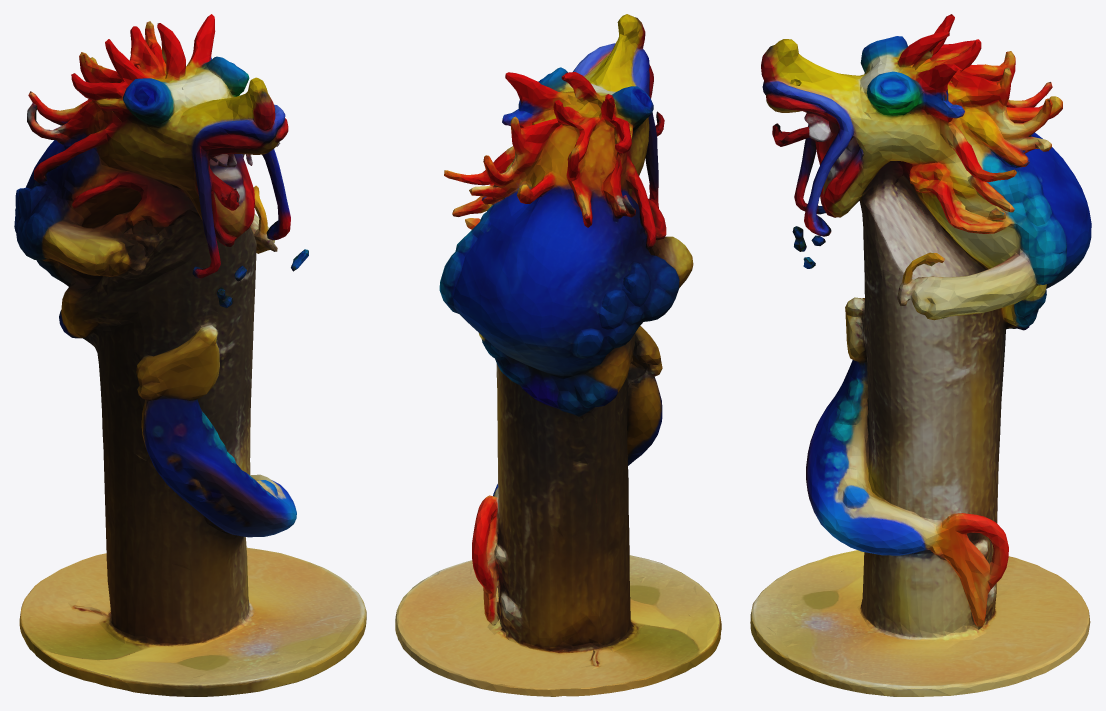
File: sample.glb
3 renders of one model, left to right at view 1: azimuth 30°, elevation 25°; view 2: azimuth 150°, elevation 25°; view 3: azimuth 270°, elevation 25°, orthographic. The views are drawn at different scales.
Visible parts, largest first — view 1: world; view 2: world; view 3: world.
Part boxes in pixels (box(x1,y1,x2,y2)): world: box(14, 14, 366, 696); world: box(395, 14, 721, 696); world: box(750, 14, 1091, 696).
Bounding box in the file's own units: 0.5315 × 1 × 0.5293.
Materials: 1 (1 with a texture image).
